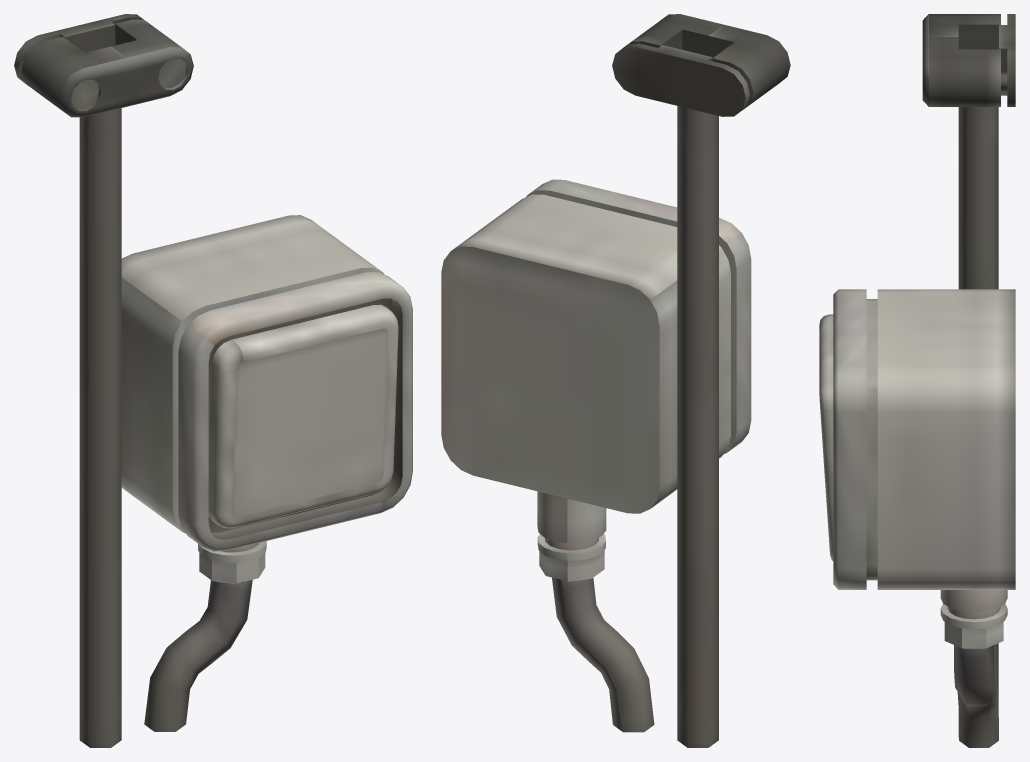
File: wall-switch--3.gltf
3 renders of one model, left to right at view 1: azimuth 30°, elevation 25°; view 2: azimuth 150°, elevation 25°; view 3: azimuth 270°, elevation 25°, orthographic. The views are drawn at different scales.
Visible parts, largest first — view 1: cable_lightswitch_double; view 2: cable_lightswitch_double; view 3: cable_lightswitch_double.
Part boxes in pixels (left/top/right/bottom): cable_lightswitch_double: left=14, top=14, right=412, bottom=747; cable_lightswitch_double: left=441, top=14, right=790, bottom=747; cable_lightswitch_double: left=819, top=14, right=1015, bottom=747.
Bounding box in the file's own units: 0.0948 × 0.2073 × 0.0547.
Materials: 1 (1 with a texture image).
